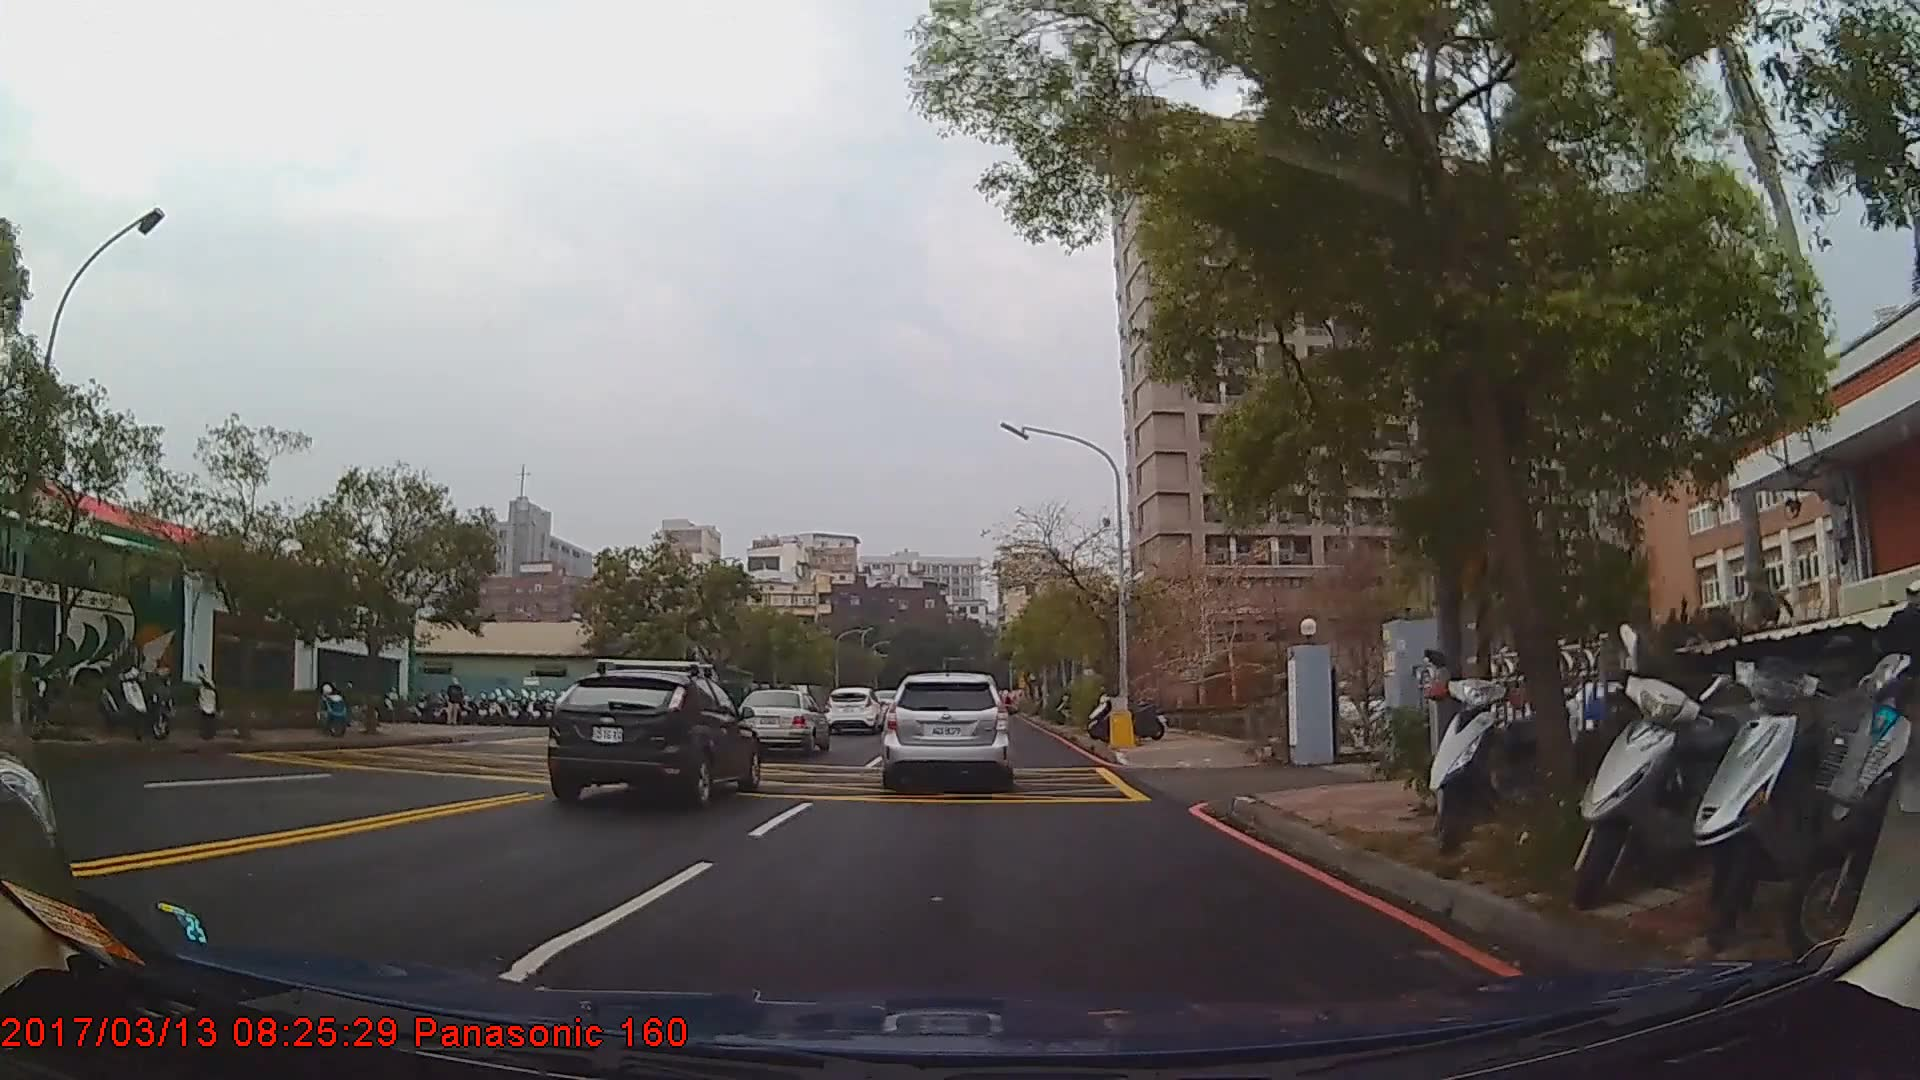pedestrian: (446, 680, 466, 727)
vehicle: (0, 503, 188, 728), (545, 668, 759, 809), (884, 671, 1009, 786), (734, 687, 827, 755), (823, 685, 884, 736)
